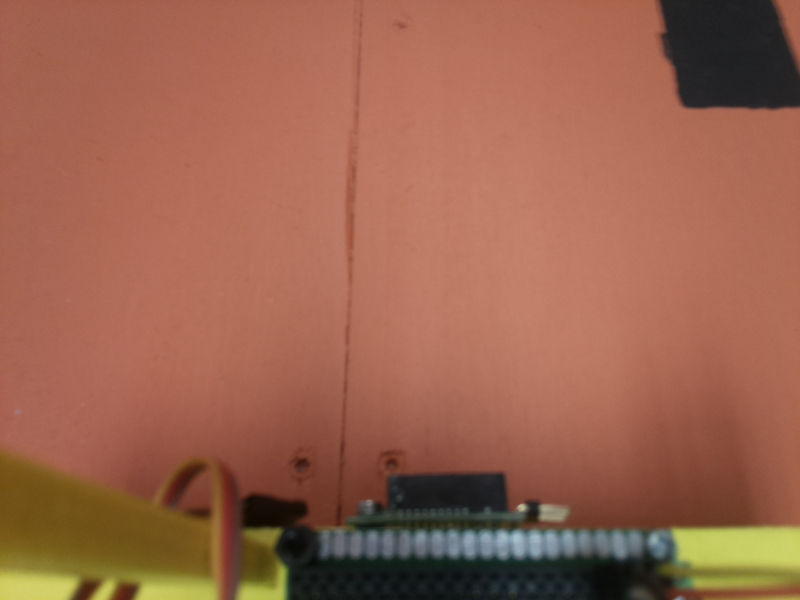start: (651, 3, 800, 111)
